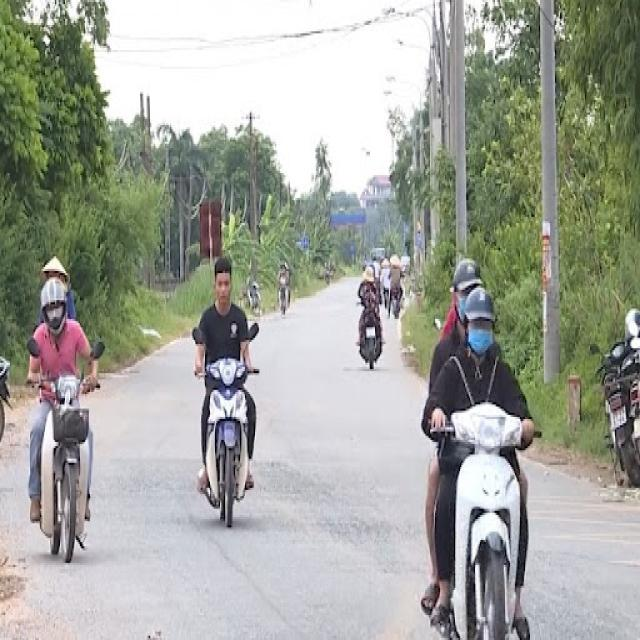no_helmet: (208, 242, 238, 321)
